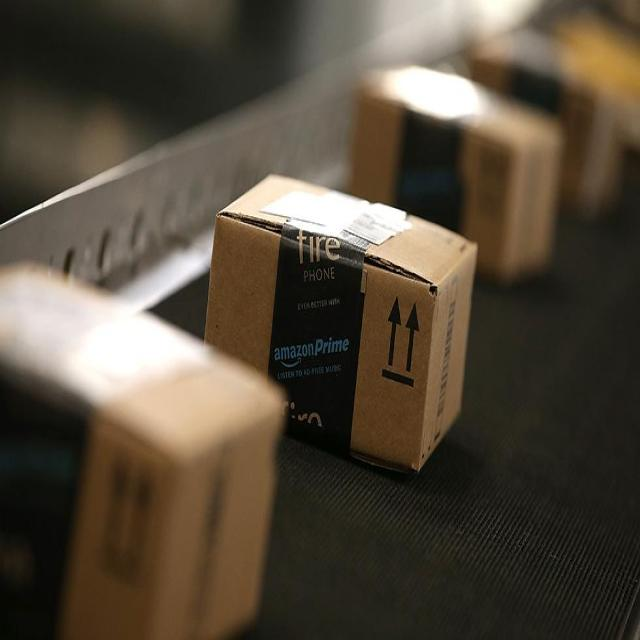Pathole: (200, 164, 480, 486)
